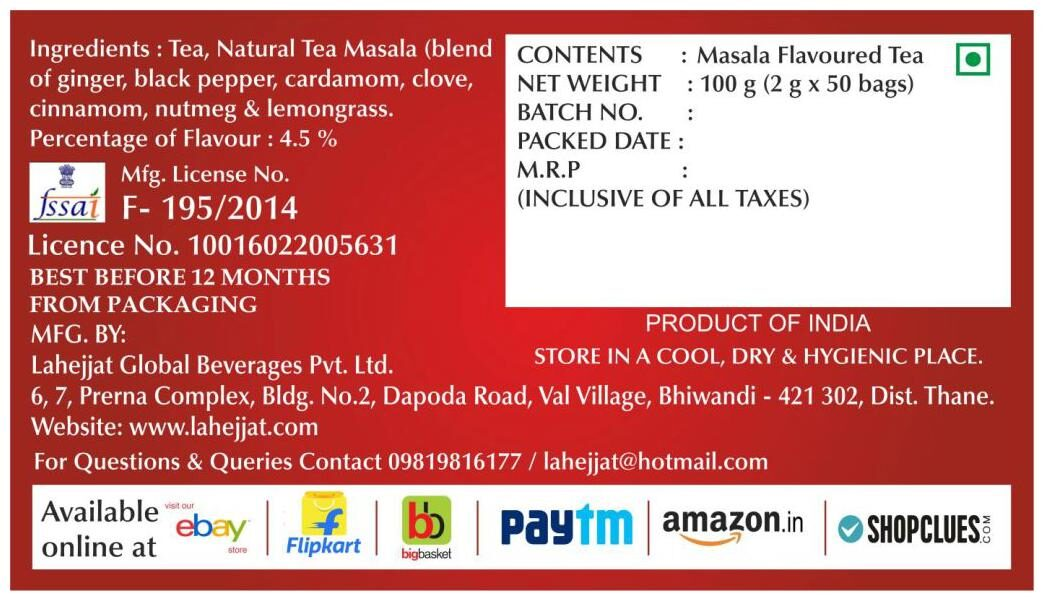fssai: (31, 187, 102, 221)
